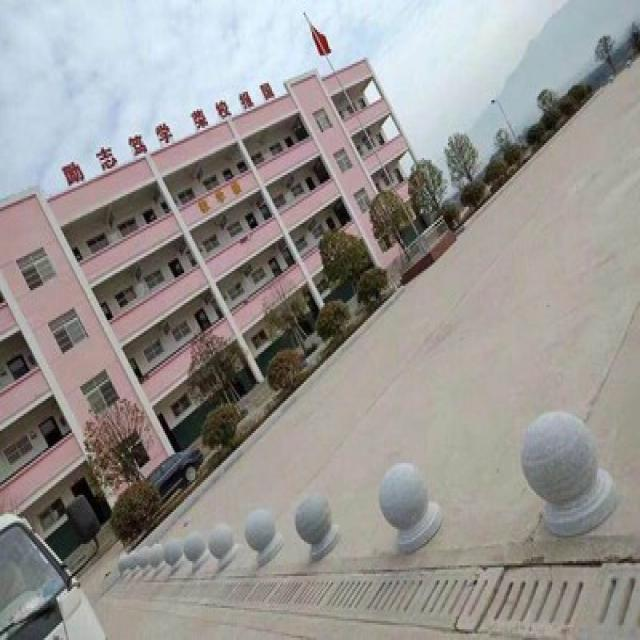car: (134, 446, 202, 495)
spherical_roadblock: (520, 410, 616, 533), (376, 461, 438, 552), (293, 488, 339, 557), (242, 506, 282, 561), (206, 518, 237, 566), (182, 529, 208, 570)
truck: (0, 493, 107, 638)
